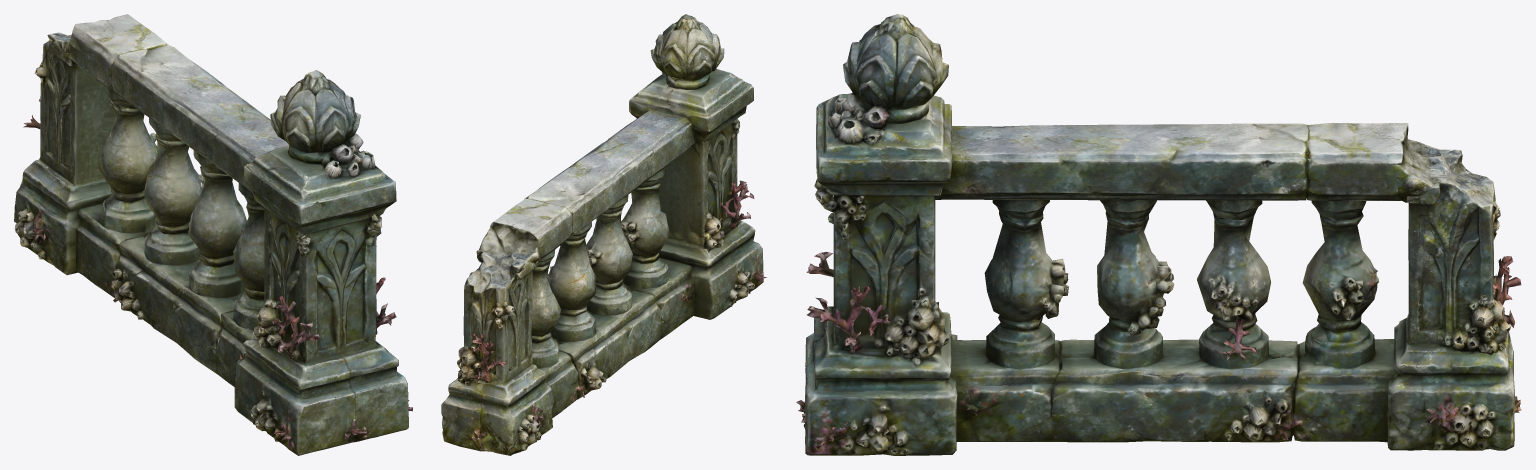
Rendered from T19_balustrade_lo.glb.
3 renders of one model, left to right at view 1: azimuth 30°, elevation 25°; view 2: azimuth 150°, elevation 25°; view 3: azimuth 270°, elevation 25°, orthographic. The views are drawn at different scales.
Parts seen in each view (by area): view 1: tripo_node_1f2cc195-8135-4710-a6cc-87a84150659c; view 2: tripo_node_1f2cc195-8135-4710-a6cc-87a84150659c; view 3: tripo_node_1f2cc195-8135-4710-a6cc-87a84150659c.
Boxes of the visible parts, bbox=[...] form: tripo_node_1f2cc195-8135-4710-a6cc-87a84150659c: bbox=[14, 14, 412, 455]; tripo_node_1f2cc195-8135-4710-a6cc-87a84150659c: bbox=[441, 14, 766, 455]; tripo_node_1f2cc195-8135-4710-a6cc-87a84150659c: bbox=[796, 14, 1521, 455].
Size of the model in its own units: 0.2491 by 0.6126 by 0.975.
1 material, 1 textured.
